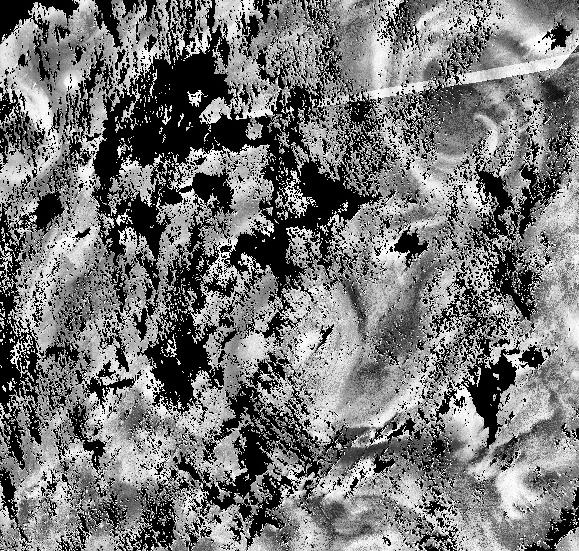CE: (379, 10, 549, 203)
